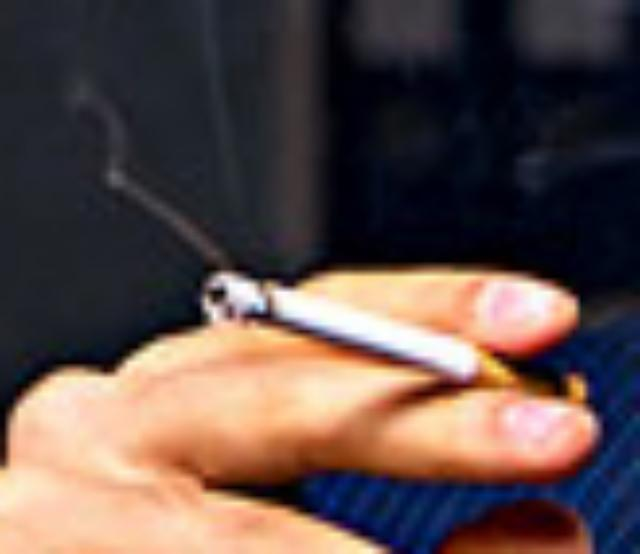Cigarette: (200, 270, 590, 408)
